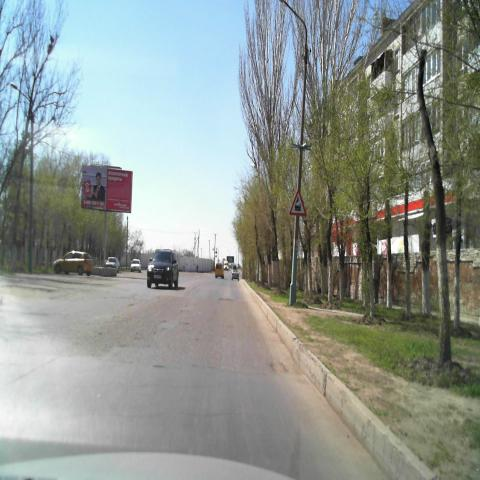1_2: (288, 188, 308, 214)
